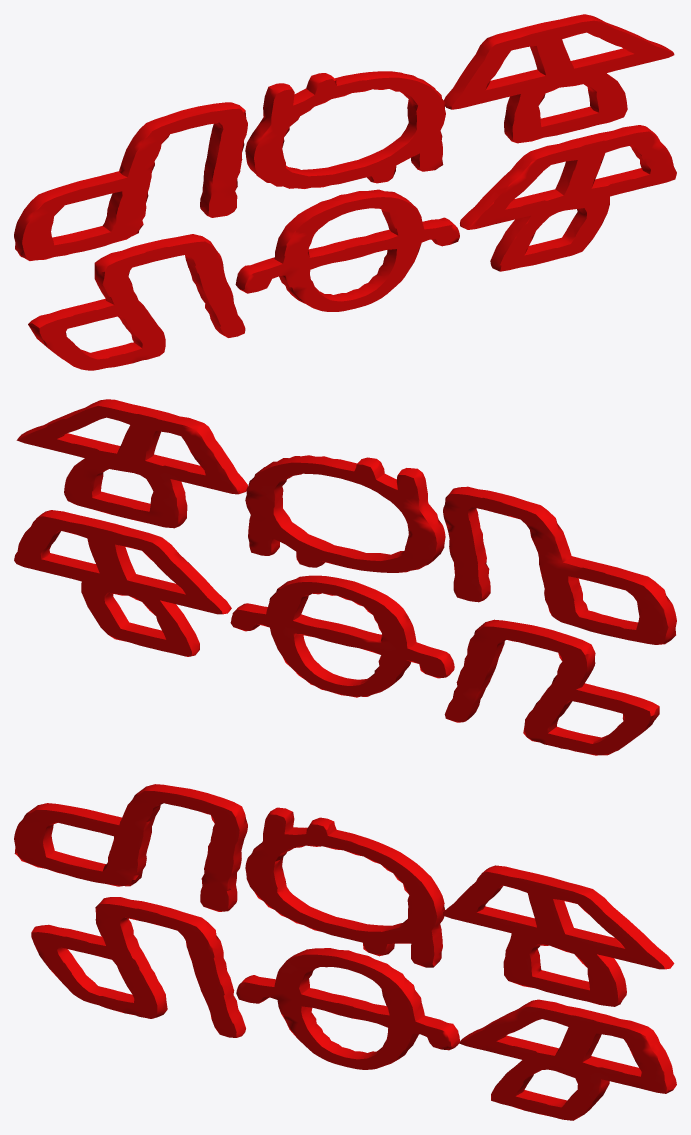
File: Text_sign_12.fbx
3 renders of one model, top to bottom at view 1: azimuth 30°, elevation 25°; view 2: azimuth 150°, elevation 25°; view 3: azimuth 330°, elevation 25°, orthographic.
Visible parts, largest first — view 1: Text_sign_12; view 2: Text_sign_12; view 3: Text_sign_12.
Part boxes in pixels (x1,y1,x2,y2): Text_sign_12: [14, 14, 676, 370]; Text_sign_12: [14, 399, 676, 755]; Text_sign_12: [14, 784, 676, 1120].
Size of the model in its own units: 144 by 49.64 by 3.32.
